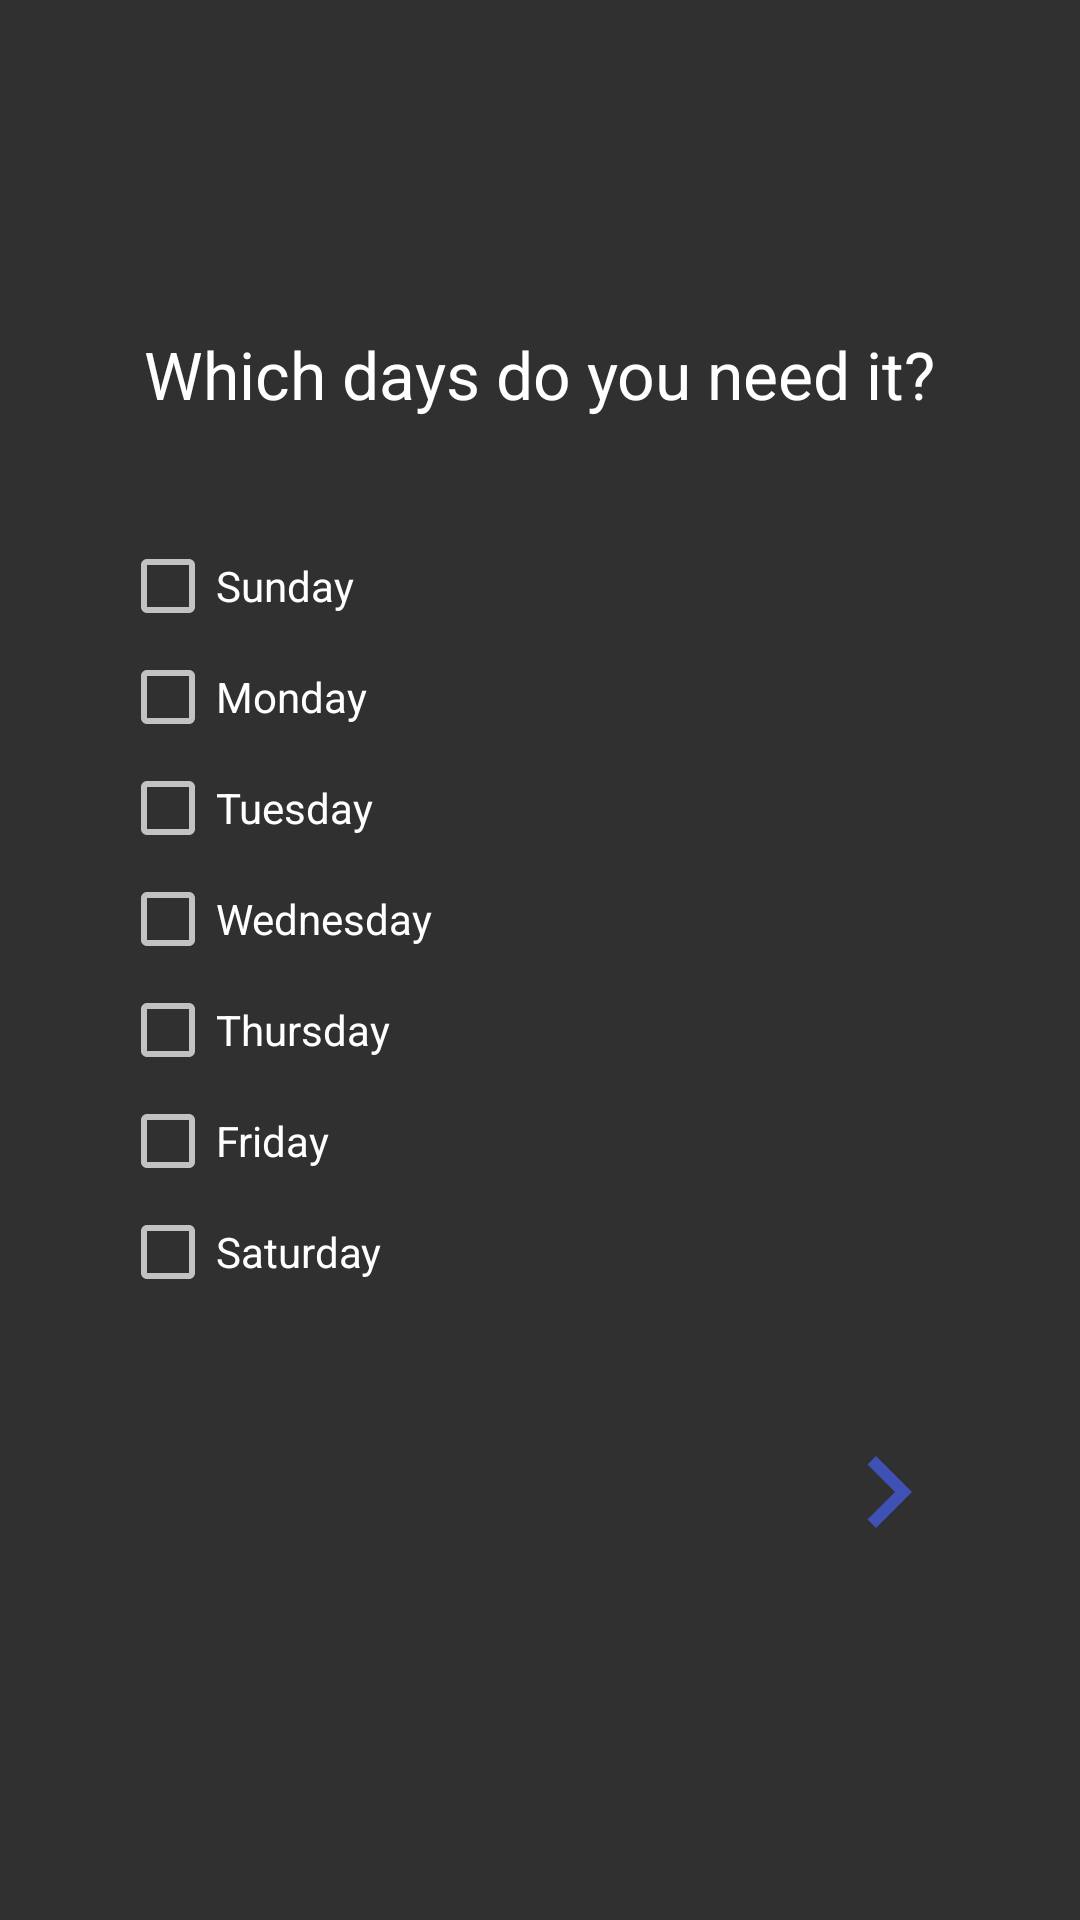

Point at icon controls on the screen. Image size 1080px x 1920px, points as (x=x, y=y).
Next stage: (x=889, y=1492)
